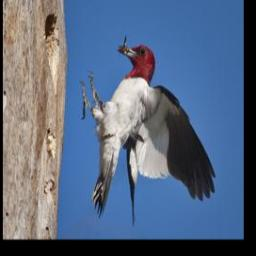Woodpecker: (81, 39, 216, 225)
